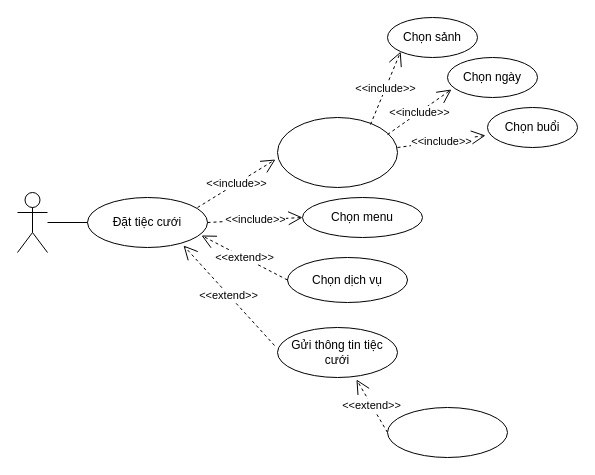
This 595x475 diagram has some shape labels left out. The shapes that lost their labels are listed below. From the top down, each one's centre as x and y in pixels, then its label:
At (337,152): "Chọn thông tin liên quan tới sảnh tiệc cưới".
At (32,222): "User".
At (447,432): "In hóa đơn".
